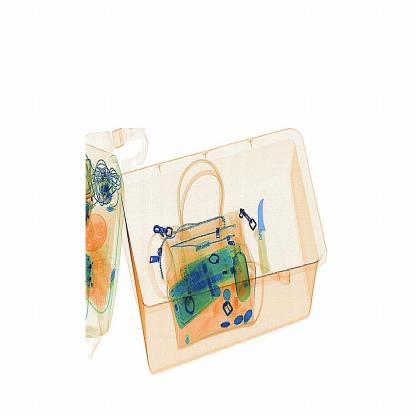wrench: (245, 190, 282, 288)
